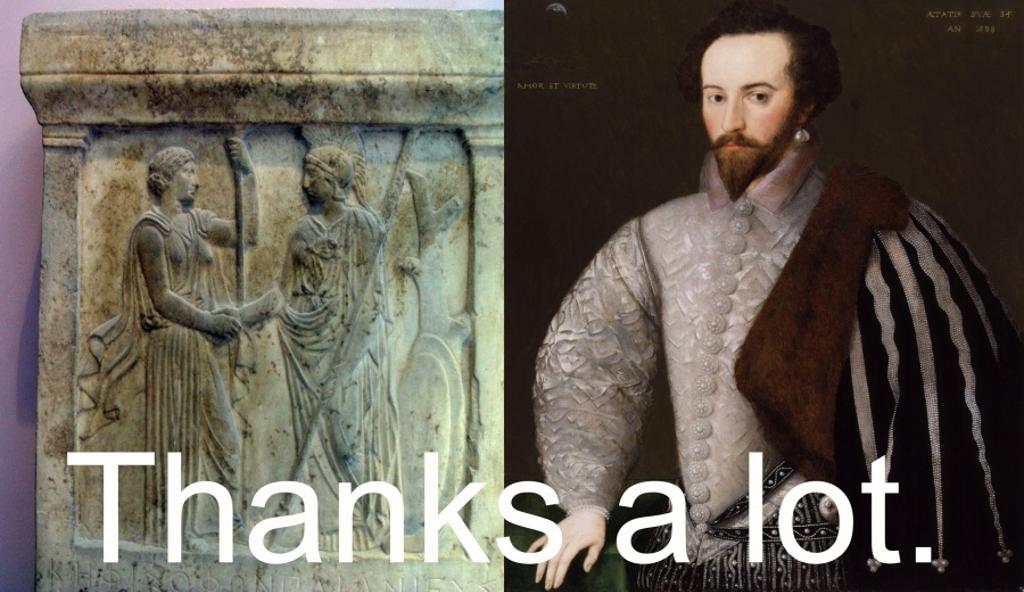face: (702, 32, 798, 182)
